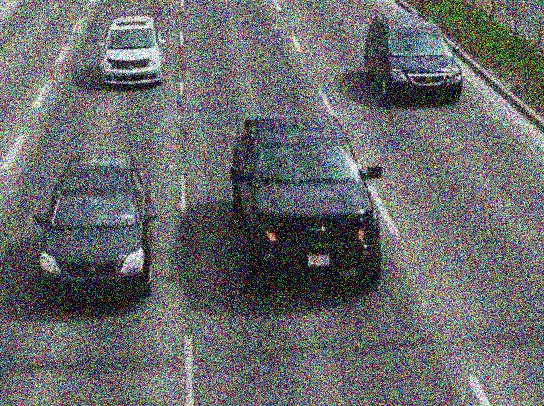car: (225, 110, 388, 293), (30, 135, 158, 308), (362, 8, 467, 104), (98, 15, 169, 92)
